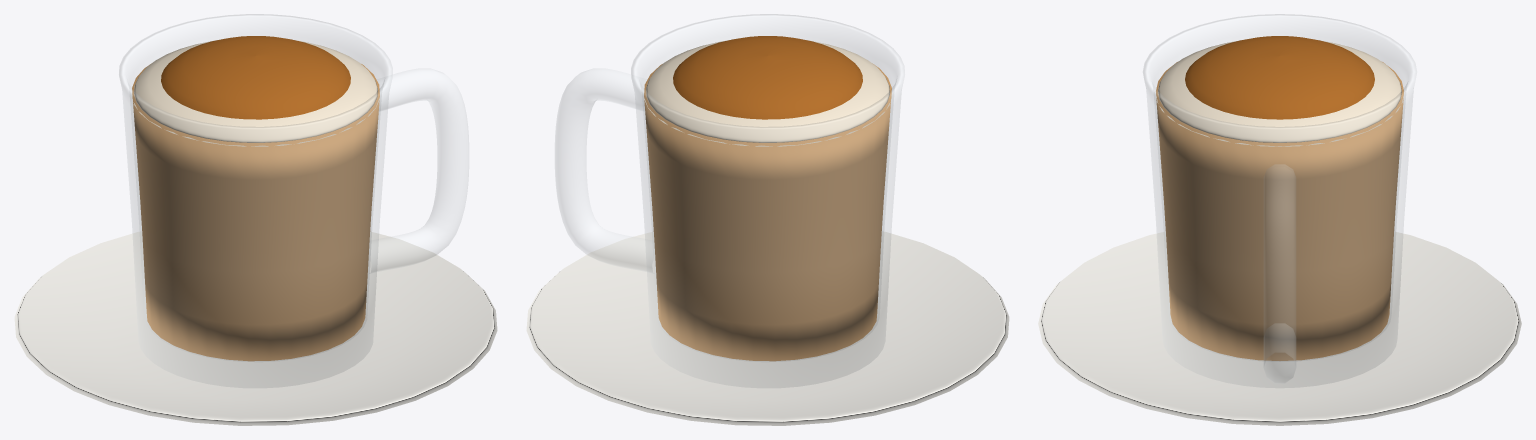
The model's file is alba-caramel-latte.glb.
3 renders of one model, left to right at view 1: azimuth 30°, elevation 25°; view 2: azimuth 150°, elevation 25°; view 3: azimuth 270°, elevation 25°, orthographic.
Bounding box in the file's own units: 0.1485 × 0.1014 × 0.148.
